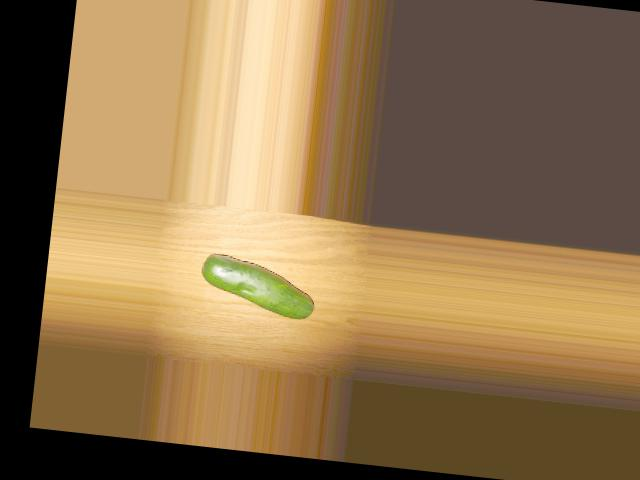cucumber: (199, 252, 319, 320)
